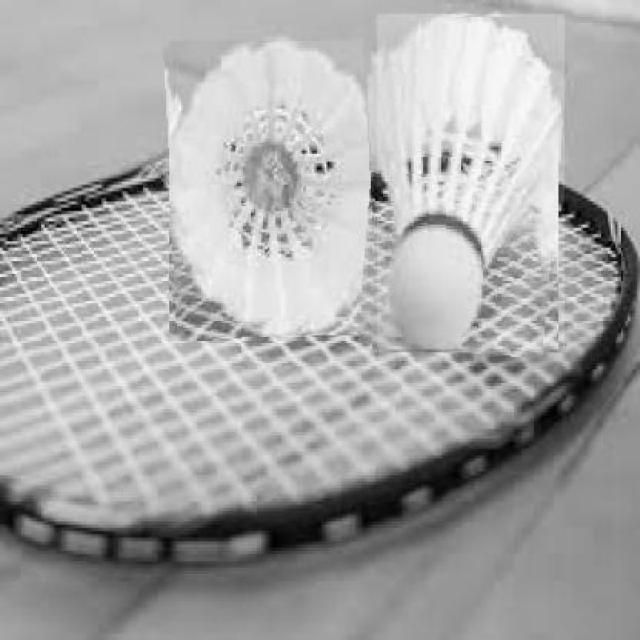Shuttlecock: (169, 41, 391, 332), (376, 13, 563, 348)
